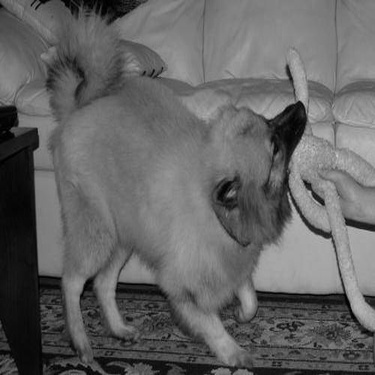dog: (37, 1, 309, 365)
